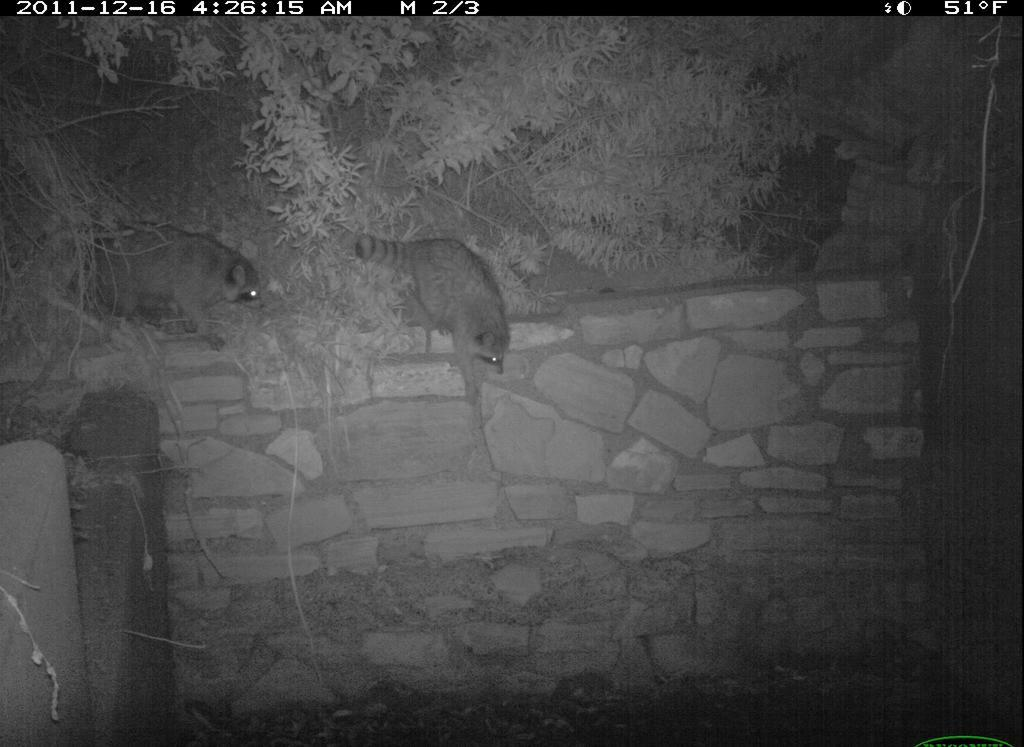raccoon: (59, 207, 292, 367), (344, 227, 519, 392)
